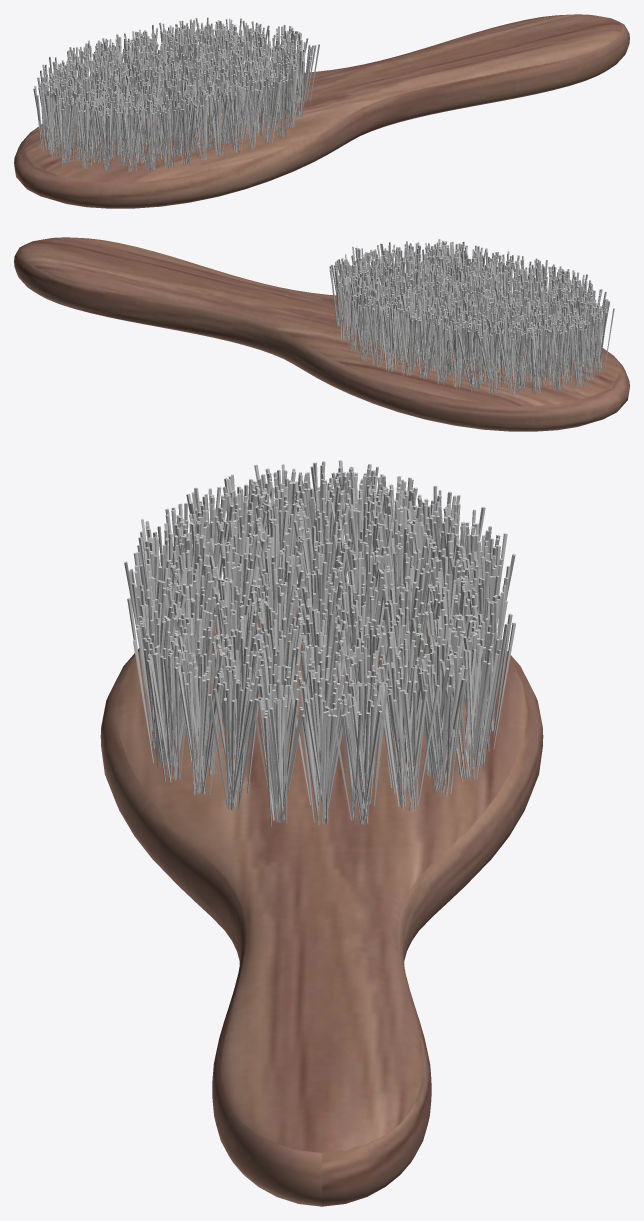
Rendered from Wooden Hair Brush.fbx.
3 renders of one model, top to bottom at view 1: azimuth 30°, elevation 25°; view 2: azimuth 150°, elevation 25°; view 3: azimuth 270°, elevation 25°, orthographic. The views are drawn at different scales.
Visible parts, largest first — view 1: Wooden Hair Brush; view 2: Wooden Hair Brush; view 3: Wooden Hair Brush.
Boxes of the visible parts, <box> form: Wooden Hair Brush: <box>14,14,629,208</box>; Wooden Hair Brush: <box>14,237,629,431</box>; Wooden Hair Brush: <box>100,460,543,1206</box>.
Bounding box in the file's own units: 12.97 × 2.01 × 4.11.
1 material, 1 textured.
